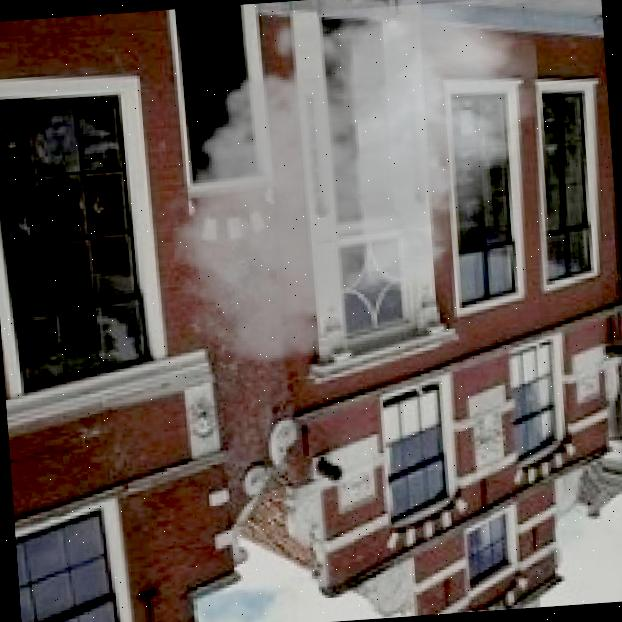smoke: (141, 0, 559, 376)
